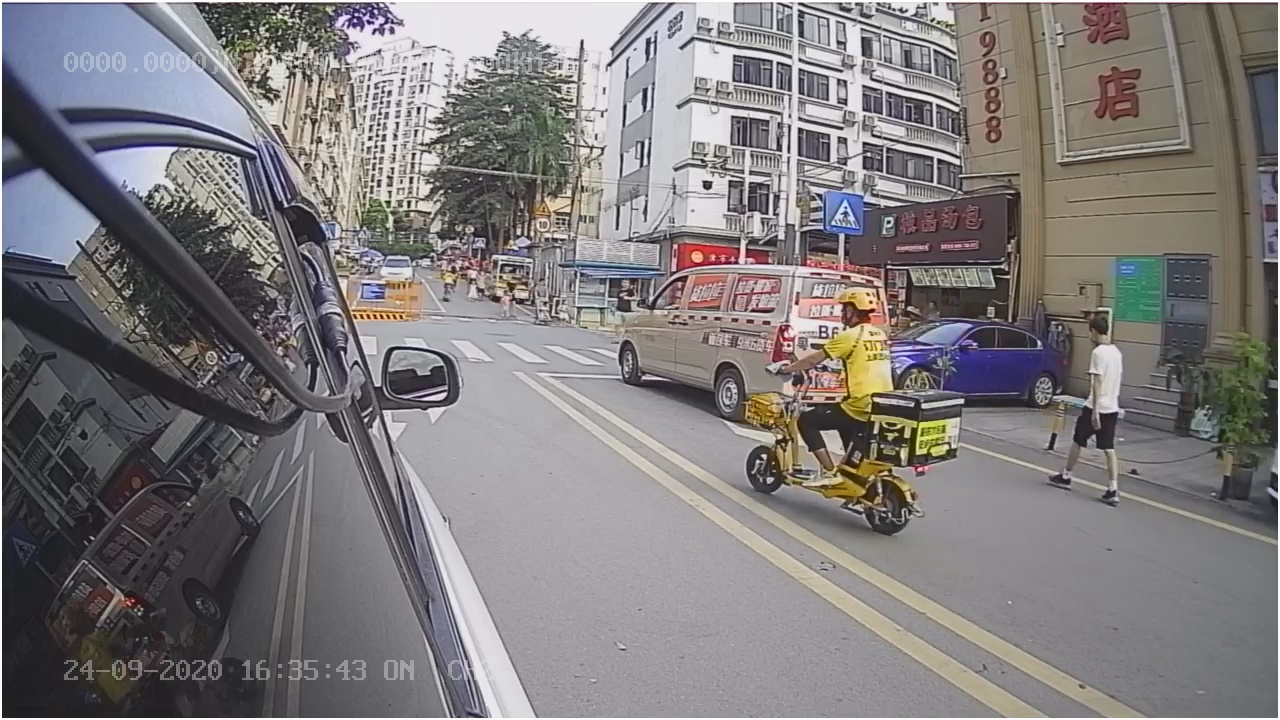person: (1048, 309, 1148, 513)
